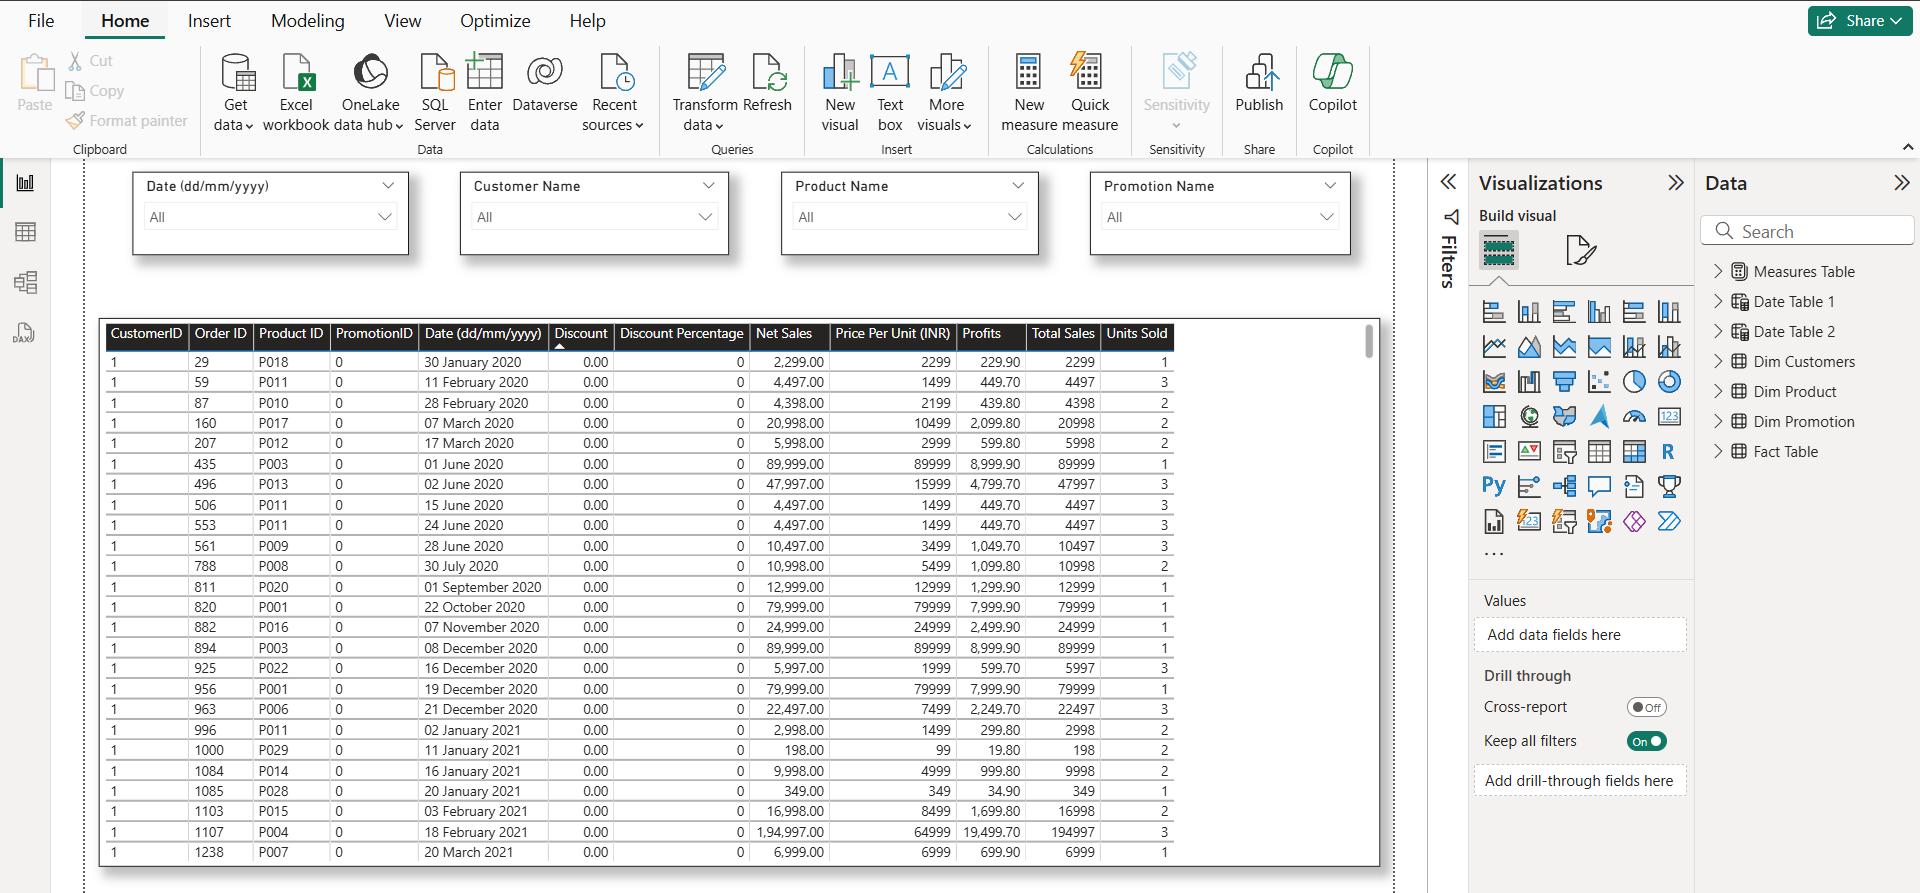

What the dashboard file says about the page in this screenshot:
{"tool":"powerbi","page":{"name":"Req 7","canvas":[1280,720],"ordinal":10},"visuals":[{"type":"tableEx","fields":{"Values":["Fact Table.CustomerID","Fact Table.Order ID","Fact Table.Product ID","Fact Table.PromotionID","Fact Table.Date (dd/mm/yyyy)","Fact Table.Discount","Fact Table.Discount Percentage","Fact Table.Net Sales  ","Fact Table.Price Per Unit (INR)","Fact Table.Profits","Fact Table.Total Sales  ","Fact Table.Units Sold"]},"box":[13.3,156.7,1253.3,536.7],"z":0},{"type":"slicer","fields":{"Values":["Fact Table.Date (dd/mm/yyyy)"]},"box":[46.7,13.3,270,81.7],"z":1000},{"type":"slicer","fields":{"Values":["Dim Customers.Customer Name"]},"box":[367.2,13.3,263.3,81.7],"z":2000},{"type":"slicer","fields":{"Values":["Dim Product.Product Name"]},"box":[681.1,13.3,251.7,81.7],"z":3000},{"type":"slicer","fields":{"Values":["Dim Promotion.Promotion Name"]},"box":[983.3,13.3,255,81.7],"z":4000}]}

Visuals, with their boxes on the page's 1280x720 design canvas (x1, y1, x2, y2). These are canvas units, not pixel positions in the 1920x893 screenshot, which may show the page scaled, cropped or inside an application window:
tableEx - Fact Table.CustomerID x Fact Table.Order ID: (13,157,1267,693)
slicer - Fact Table.Date (dd/mm/yyyy): (47,13,317,95)
slicer - Dim Customers.Customer Name: (367,13,630,95)
slicer - Dim Product.Product Name: (681,13,933,95)
slicer - Dim Promotion.Promotion Name: (983,13,1238,95)
